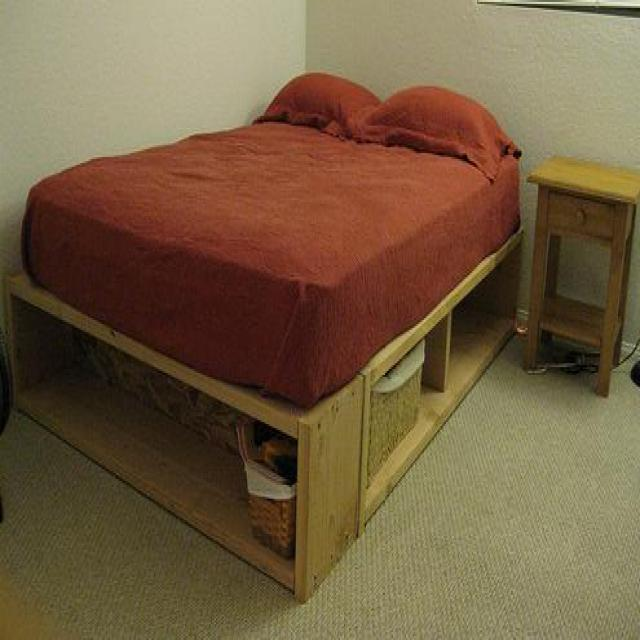bed: (7, 69, 524, 610)
